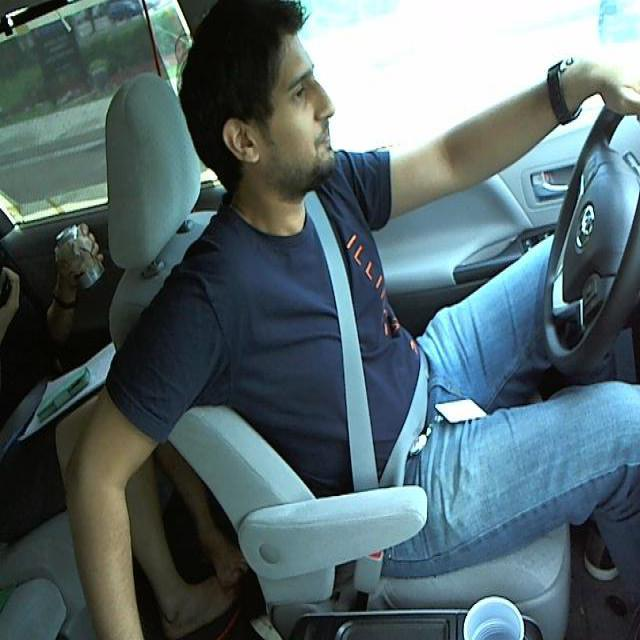seatbelt: (292, 216, 437, 492)
